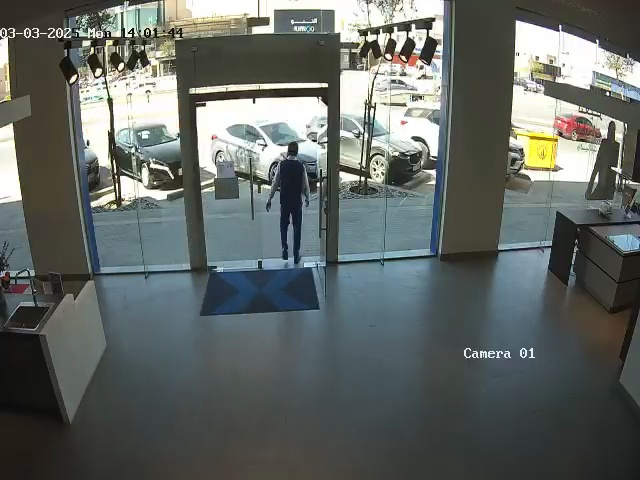employee: (265, 141, 311, 264)
